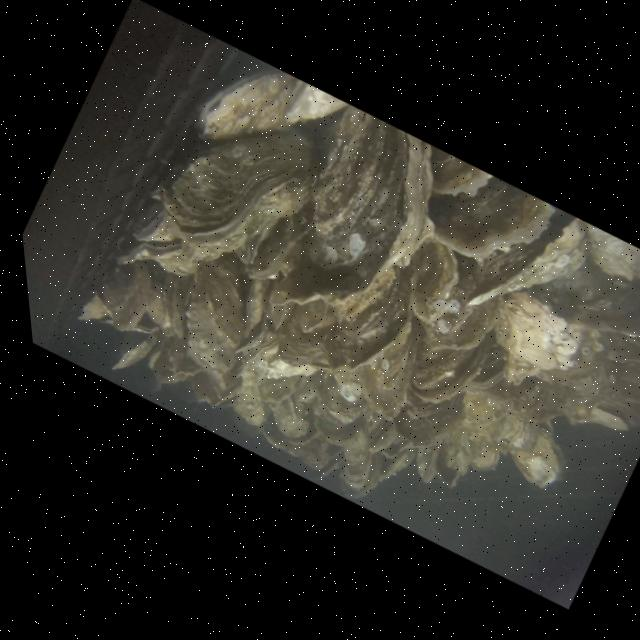Oyster-Closed: (234, 97, 478, 362), (133, 81, 348, 293), (180, 41, 357, 201), (150, 240, 286, 386), (216, 310, 330, 412), (77, 244, 175, 341), (383, 221, 478, 315), (264, 298, 345, 382), (136, 270, 209, 348), (304, 365, 378, 434), (400, 435, 454, 492)
Oyster-Indeterminate: (384, 137, 564, 293), (477, 281, 599, 393), (339, 314, 441, 425), (380, 365, 482, 467), (408, 267, 511, 368), (397, 241, 496, 342), (440, 369, 532, 450), (252, 408, 343, 480), (325, 422, 390, 493), (103, 319, 166, 388), (140, 336, 202, 399), (349, 404, 412, 464), (218, 375, 281, 434), (304, 401, 367, 457), (261, 393, 319, 451), (157, 337, 216, 390), (370, 437, 423, 495), (455, 426, 511, 480), (425, 441, 475, 493)
Oyster-Open: (449, 183, 610, 353), (393, 304, 504, 421), (111, 197, 227, 297), (317, 247, 410, 346), (496, 416, 582, 498), (558, 375, 640, 449), (466, 341, 520, 401)
